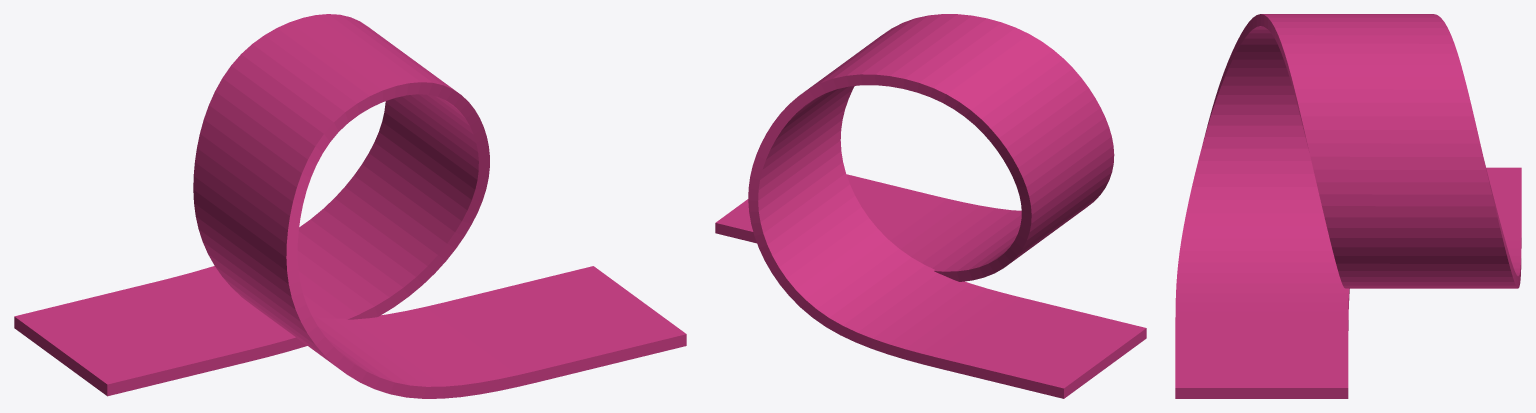
File: LOOP2.dae
3 views of the same model, side by side, from view 1: azimuth 30°, elevation 25°; view 2: azimuth 150°, elevation 25°; view 3: azimuth 270°, elevation 25° (orthographic). The views are drawn at different scales.
Visible parts, largest first — view 1: LOOP1-col; view 2: LOOP1-col; view 3: LOOP1-col.
Boxes of the visible parts, box(x1,y1,x2,y2) form: LOOP1-col: box(14, 14, 686, 398); LOOP1-col: box(715, 14, 1146, 398); LOOP1-col: box(1175, 14, 1521, 398).
Bounding box in the file's own units: 85.16 × 56.53 × 46.45.
